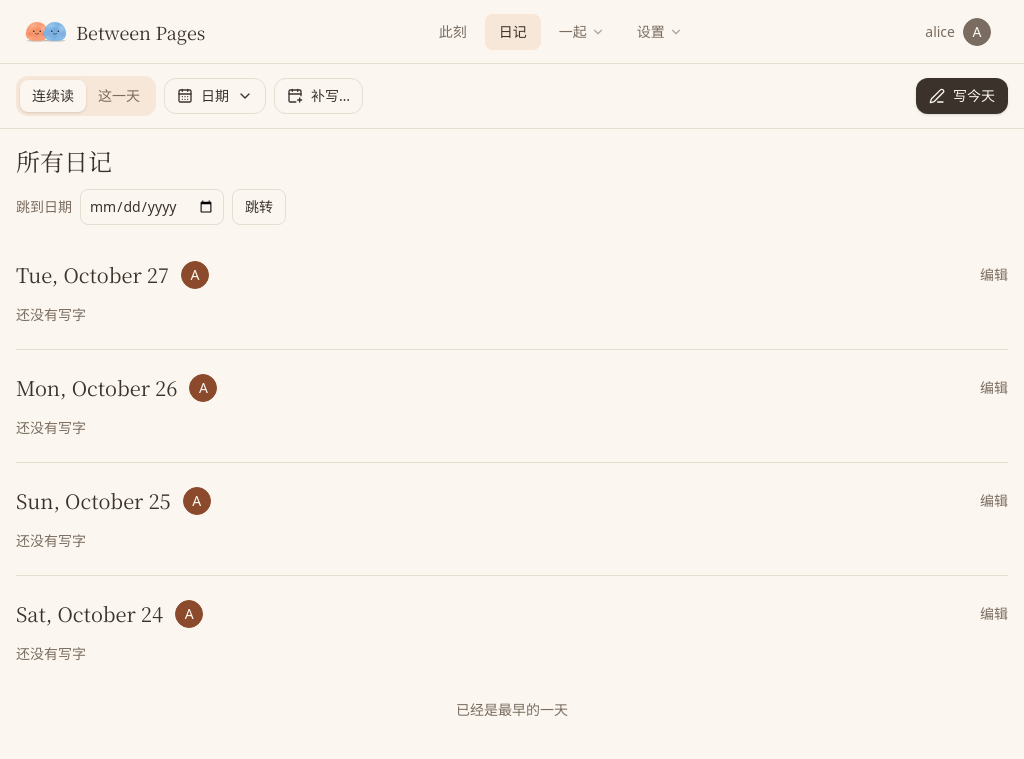
Test: DaysWorkspace › [adr:book-frontend-workspace#6] [adr:digital-paper-interface#10] narrow: folds the index into a date picker, and back from a date shows the feed where it was
This screenshot has width=1024, height=759.
Later steps or results of the test are not shown.
(page scrolled)
Check: the element showing "Sat, October 24 A 编辑 还没有写字" is shown, box x1=16 y1=575 x2=1008 y2=688
Check: the button "写今天" is shown, box x1=916 y1=78 x2=1008 y2=114
Click the button "日期". click: point(215, 96)
box: x1=164 y1=78 x2=266 y2=114
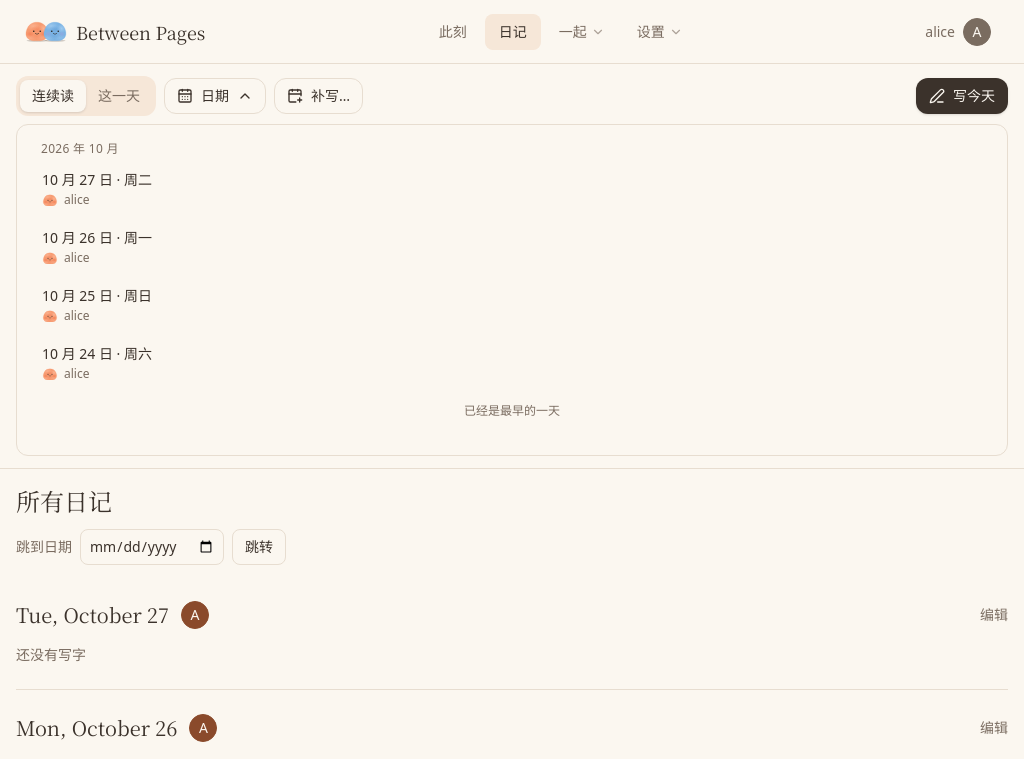
Click the link "10 月 24 日". click: point(97, 363)
box: x1=42 y1=344 x2=152 y2=382
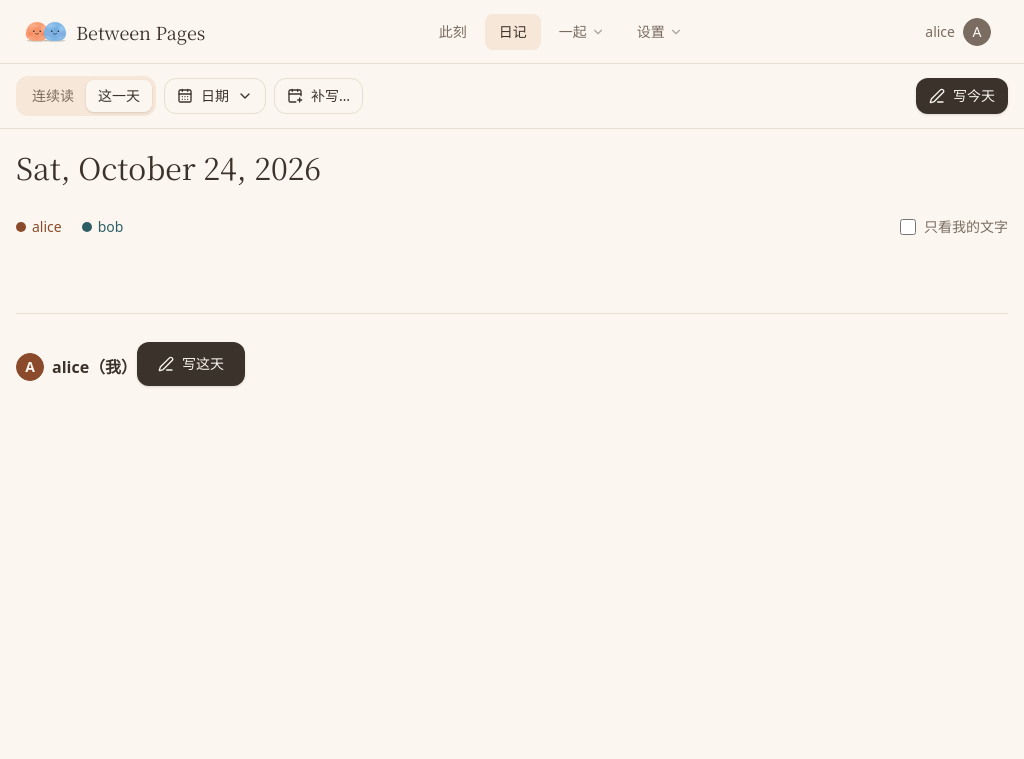
Check: the button "写这天" is shown, box x1=137 y1=342 x2=245 y2=386
Check: the heading "所有日记" is gone
Check: the navigation bar "日期索引" is gone
